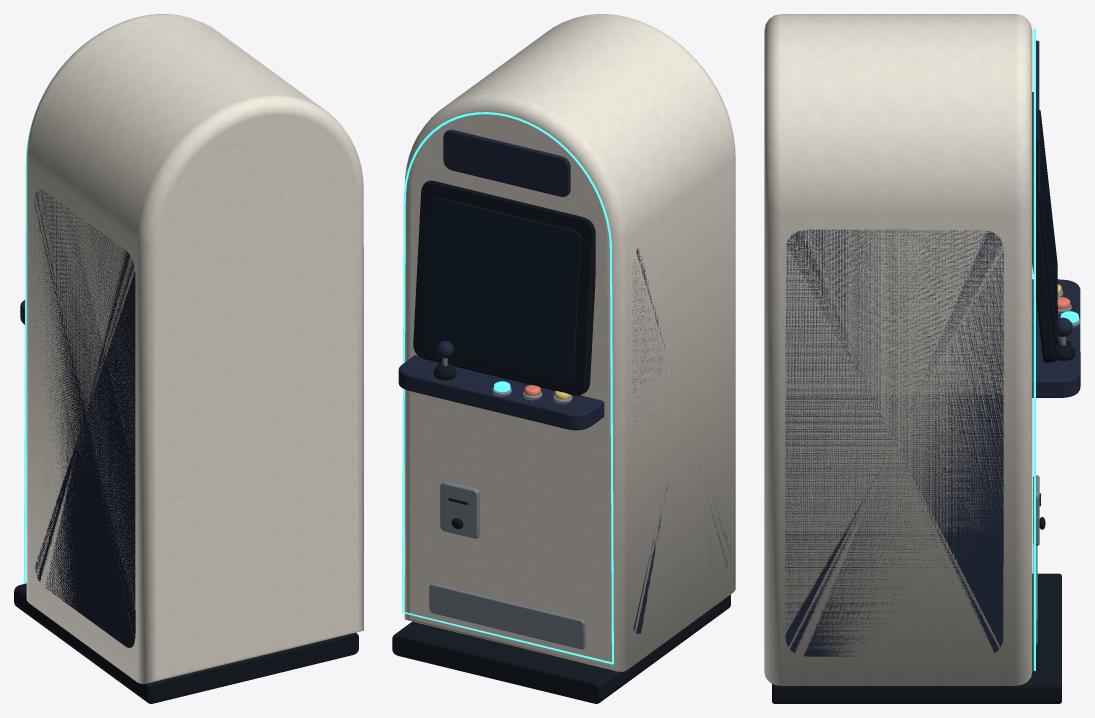
Rendered from arcade_cabinet_a.glb.
3 renders of one model, left to right at view 1: azimuth 30°, elevation 25°; view 2: azimuth 150°, elevation 25°; view 3: azimuth 270°, elevation 25°, orthographic. The views are drawn at different scales.
Visible parts, largest first — view 1: CabinetShell, SidePanelLeft, RubberBase, NeonTrim; view 2: CabinetShell, Screen, RubberBase, ScreenBezel, ControlDeck, MarqueeBlank, KickPlate, NeonTrim, CoinSlot, SidePanelLeft, Stick; view 3: CabinetShell, SidePanelRight, RubberBase, ControlDeck, ScreenBezel, Screen, NeonTrim, Stick.
Boxes of the visible parts, bbox=[...] form: CabinetShell: bbox=[26, 14, 363, 683]; SidePanelLeft: bbox=[34, 189, 135, 647]; RubberBase: bbox=[14, 583, 358, 703]; NeonTrim: bbox=[23, 121, 32, 583]; CabinetShell: bbox=[404, 14, 735, 671]; Screen: bbox=[422, 197, 581, 381]; RubberBase: bbox=[392, 594, 730, 703]; ScreenBezel: bbox=[413, 180, 595, 395]; ControlDeck: bbox=[398, 355, 604, 430]; MarqueeBlank: bbox=[443, 129, 570, 196]; KickPlate: bbox=[429, 583, 585, 649]; NeonTrim: bbox=[402, 112, 613, 664]; CoinSlot: bbox=[440, 481, 479, 538]; SidePanelLeft: bbox=[632, 247, 730, 633]; Stick: bbox=[433, 341, 456, 380]; CabinetShell: bbox=[764, 14, 1032, 685]; SidePanelRight: bbox=[785, 229, 1003, 656]; RubberBase: bbox=[772, 573, 1061, 703]; ControlDeck: bbox=[1032, 279, 1080, 397]; ScreenBezel: bbox=[1032, 92, 1055, 362]; Screen: bbox=[1037, 110, 1057, 343]; NeonTrim: bbox=[1033, 28, 1035, 670]; Stick: bbox=[1056, 317, 1075, 360].
Bounding box in the file's own units: 0.75 × 1.85 × 0.85.
9 materials, 9 textured.
